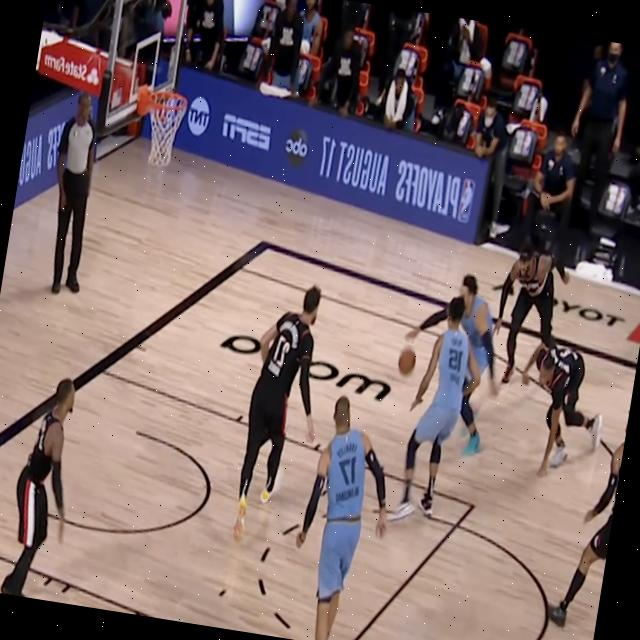no foul: (383, 269, 503, 546), (513, 312, 629, 484), (496, 222, 584, 400)
